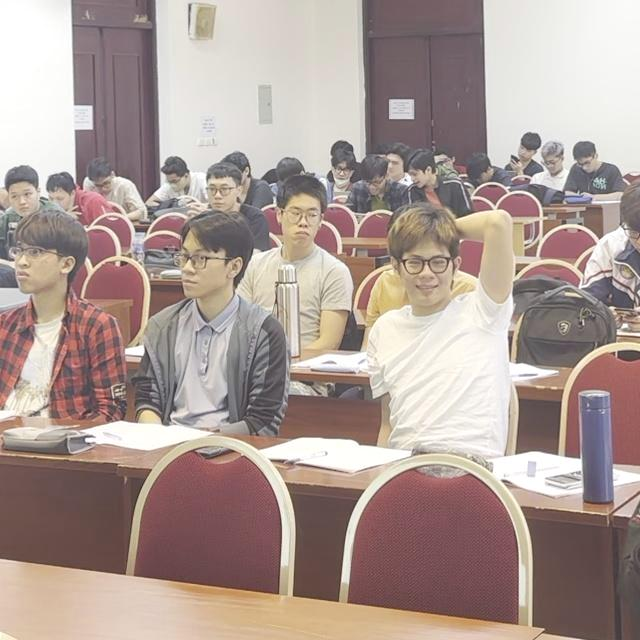Looking away: (282, 196, 322, 246), (408, 160, 432, 188), (93, 173, 116, 195), (365, 172, 387, 194), (578, 148, 598, 172), (543, 152, 561, 177)
Looking forward: (176, 229, 231, 300), (397, 238, 454, 303), (14, 238, 63, 296), (206, 178, 238, 212), (11, 181, 38, 216), (332, 158, 352, 184)
Phone use: (147, 155, 207, 208), (501, 130, 541, 176)
